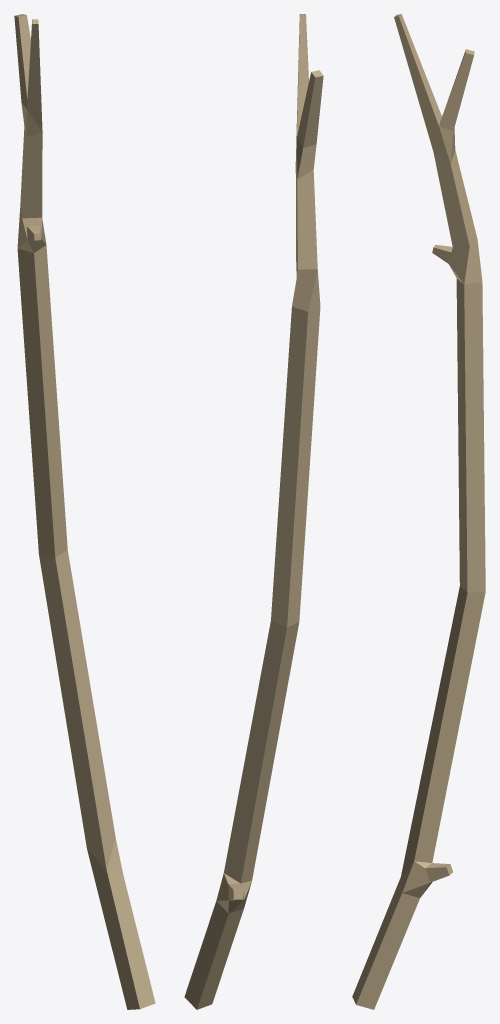
Rendered from stick_03_long_coco.fbx.
The picture shows the model from 3 angles, left to right: view 1: azimuth 30°, elevation 25°; view 2: azimuth 210°, elevation 25°; view 3: azimuth 270°, elevation 25°; orthographic projection. The views are drawn at different scales.
Parts seen in each view (by area): view 1: Cube; view 2: Cube; view 3: Cube.
Part boxes in pixels (x1=…): Cube: x1=14, y1=14, x2=155, y2=1009; Cube: x1=184, y1=14, x2=323, y2=1009; Cube: x1=352, y1=14, x2=485, y2=1009.
Bounding box in the file's own units: 13.68 × 128 × 16.27.
